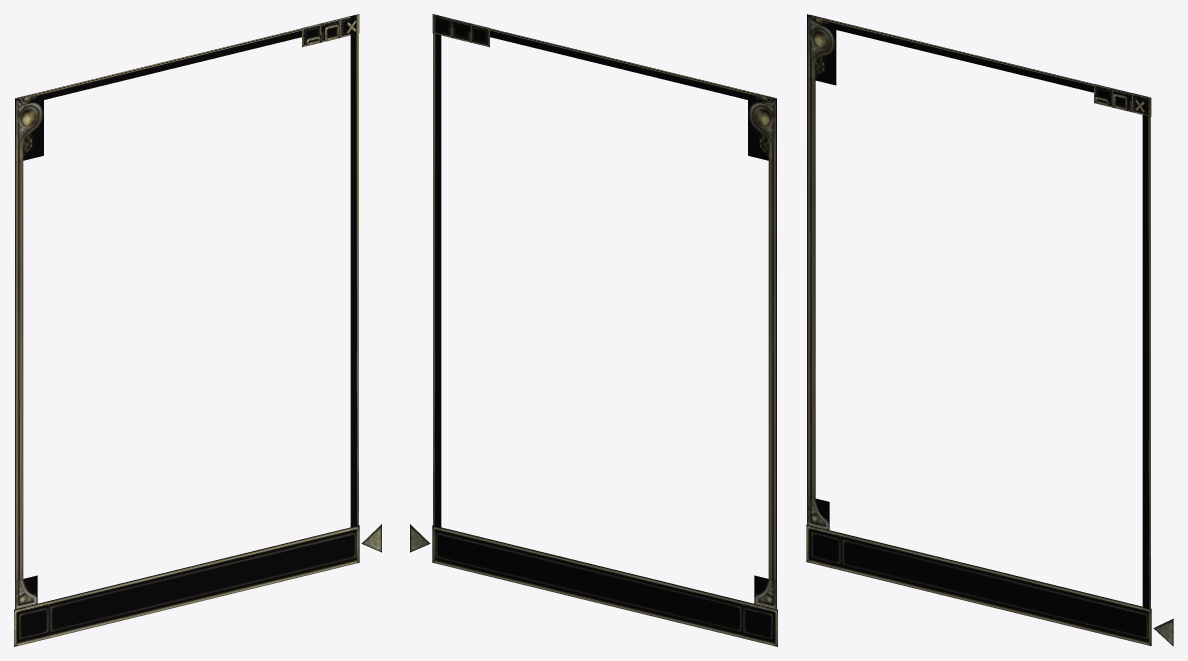
File: chat_frame_c.fbx
3 renders of one model, left to right at view 1: azimuth 30°, elevation 25°; view 2: azimuth 150°, elevation 25°; view 3: azimuth 330°, elevation 25°, orthographic.
Parts seen in each view (by area): view 1: pPlane12, pPlane27, pPlane9, pPlane26, pPlane8, pPlane11, pPlane10; view 2: pPlane12, pPlane27, pPlane9, pPlane26, pPlane8, pPlane11, pPlane10; view 3: pPlane12, pPlane27, pPlane9, pPlane26, pPlane8, pPlane11, pPlane10.
Part boxes in pixels (x1,y1,x2,y2): pPlane12: [49, 525, 359, 638]; pPlane27: [350, 14, 358, 527]; pPlane9: [15, 161, 23, 580]; pPlane26: [17, 19, 350, 105]; pPlane8: [15, 98, 43, 162]; pPlane11: [14, 601, 48, 646]; pPlane10: [15, 575, 37, 608]; pPlane12: [432, 525, 742, 638]; pPlane27: [433, 14, 441, 528]; pPlane9: [768, 161, 776, 580]; pPlane26: [433, 14, 774, 105]; pPlane8: [748, 98, 776, 162]; pPlane11: [743, 601, 777, 646]; pPlane10: [754, 575, 776, 608]; pPlane12: [841, 533, 1151, 645]; pPlane27: [1142, 96, 1150, 609]; pPlane9: [807, 78, 815, 498]; pPlane26: [809, 14, 1148, 102]; pPlane8: [807, 14, 836, 85]; pPlane11: [806, 524, 840, 570]; pPlane10: [807, 496, 829, 529].
Bounding box in the file's own units: 479 × 683 × 4.16.
Materials: 1 (1 with a texture image).
